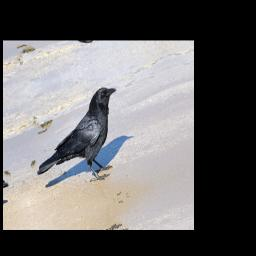Crow: (23, 83, 136, 202)
